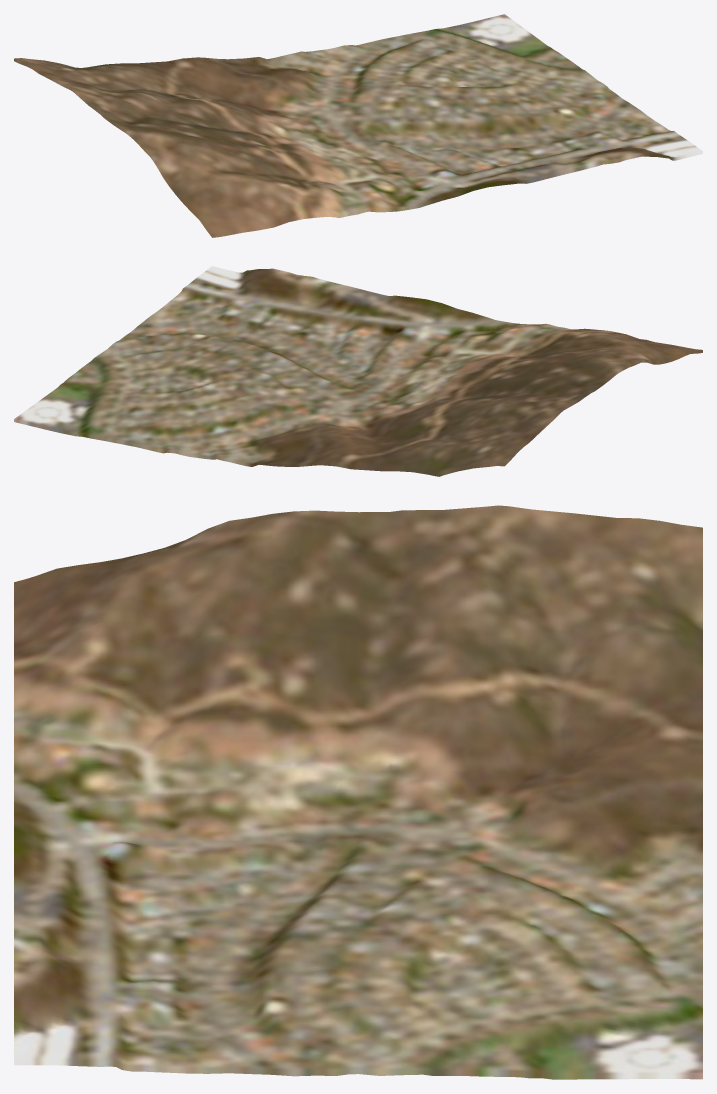
File: terrain_r2_c6_lod1.glb
The picture shows the model from 3 angles, top to bottom: view 1: azimuth 30°, elevation 25°; view 2: azimuth 150°, elevation 25°; view 3: azimuth 270°, elevation 25°; orthographic projection. The views are drawn at different scales.
Visible parts, largest first — view 1: terrain_r2_c6_lod1; view 2: terrain_r2_c6_lod1; view 3: terrain_r2_c6_lod1.
Boxes of the visible parts, x1,y1,x2,y2 form: terrain_r2_c6_lod1: [14, 14, 702, 237]; terrain_r2_c6_lod1: [14, 266, 702, 476]; terrain_r2_c6_lod1: [14, 505, 702, 1079].
Size of the model in its own units: 1125 by 199 by 787.
1 material, 1 textured.
